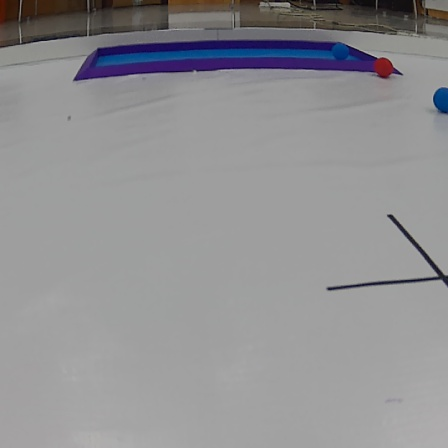blue: (329, 40, 350, 63), (432, 84, 448, 113)
blue_aim: (76, 37, 397, 85)
red: (374, 54, 395, 77)
